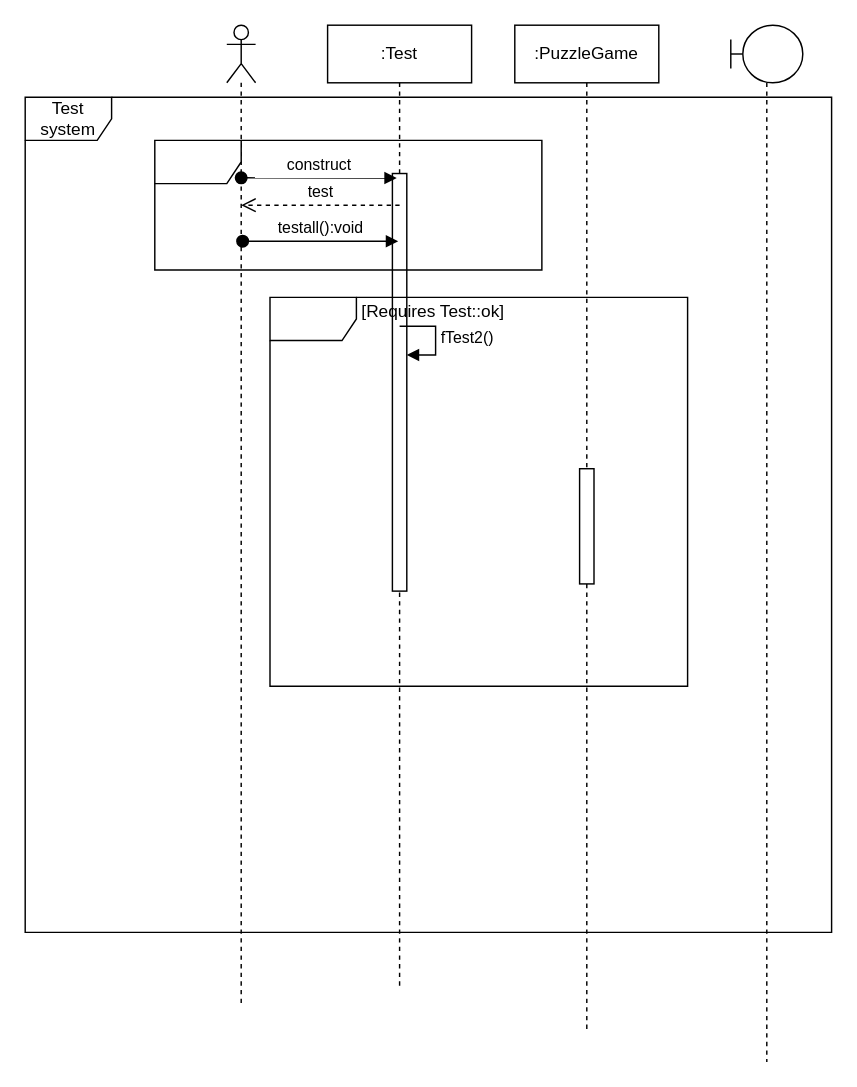
The diagram is 857 pixels wide and 1087 high, and some of its shapes have lost their labels. Each missing label, with the centre of its shape:
alt: pixel 478 491
start tests: pixel 347 204
